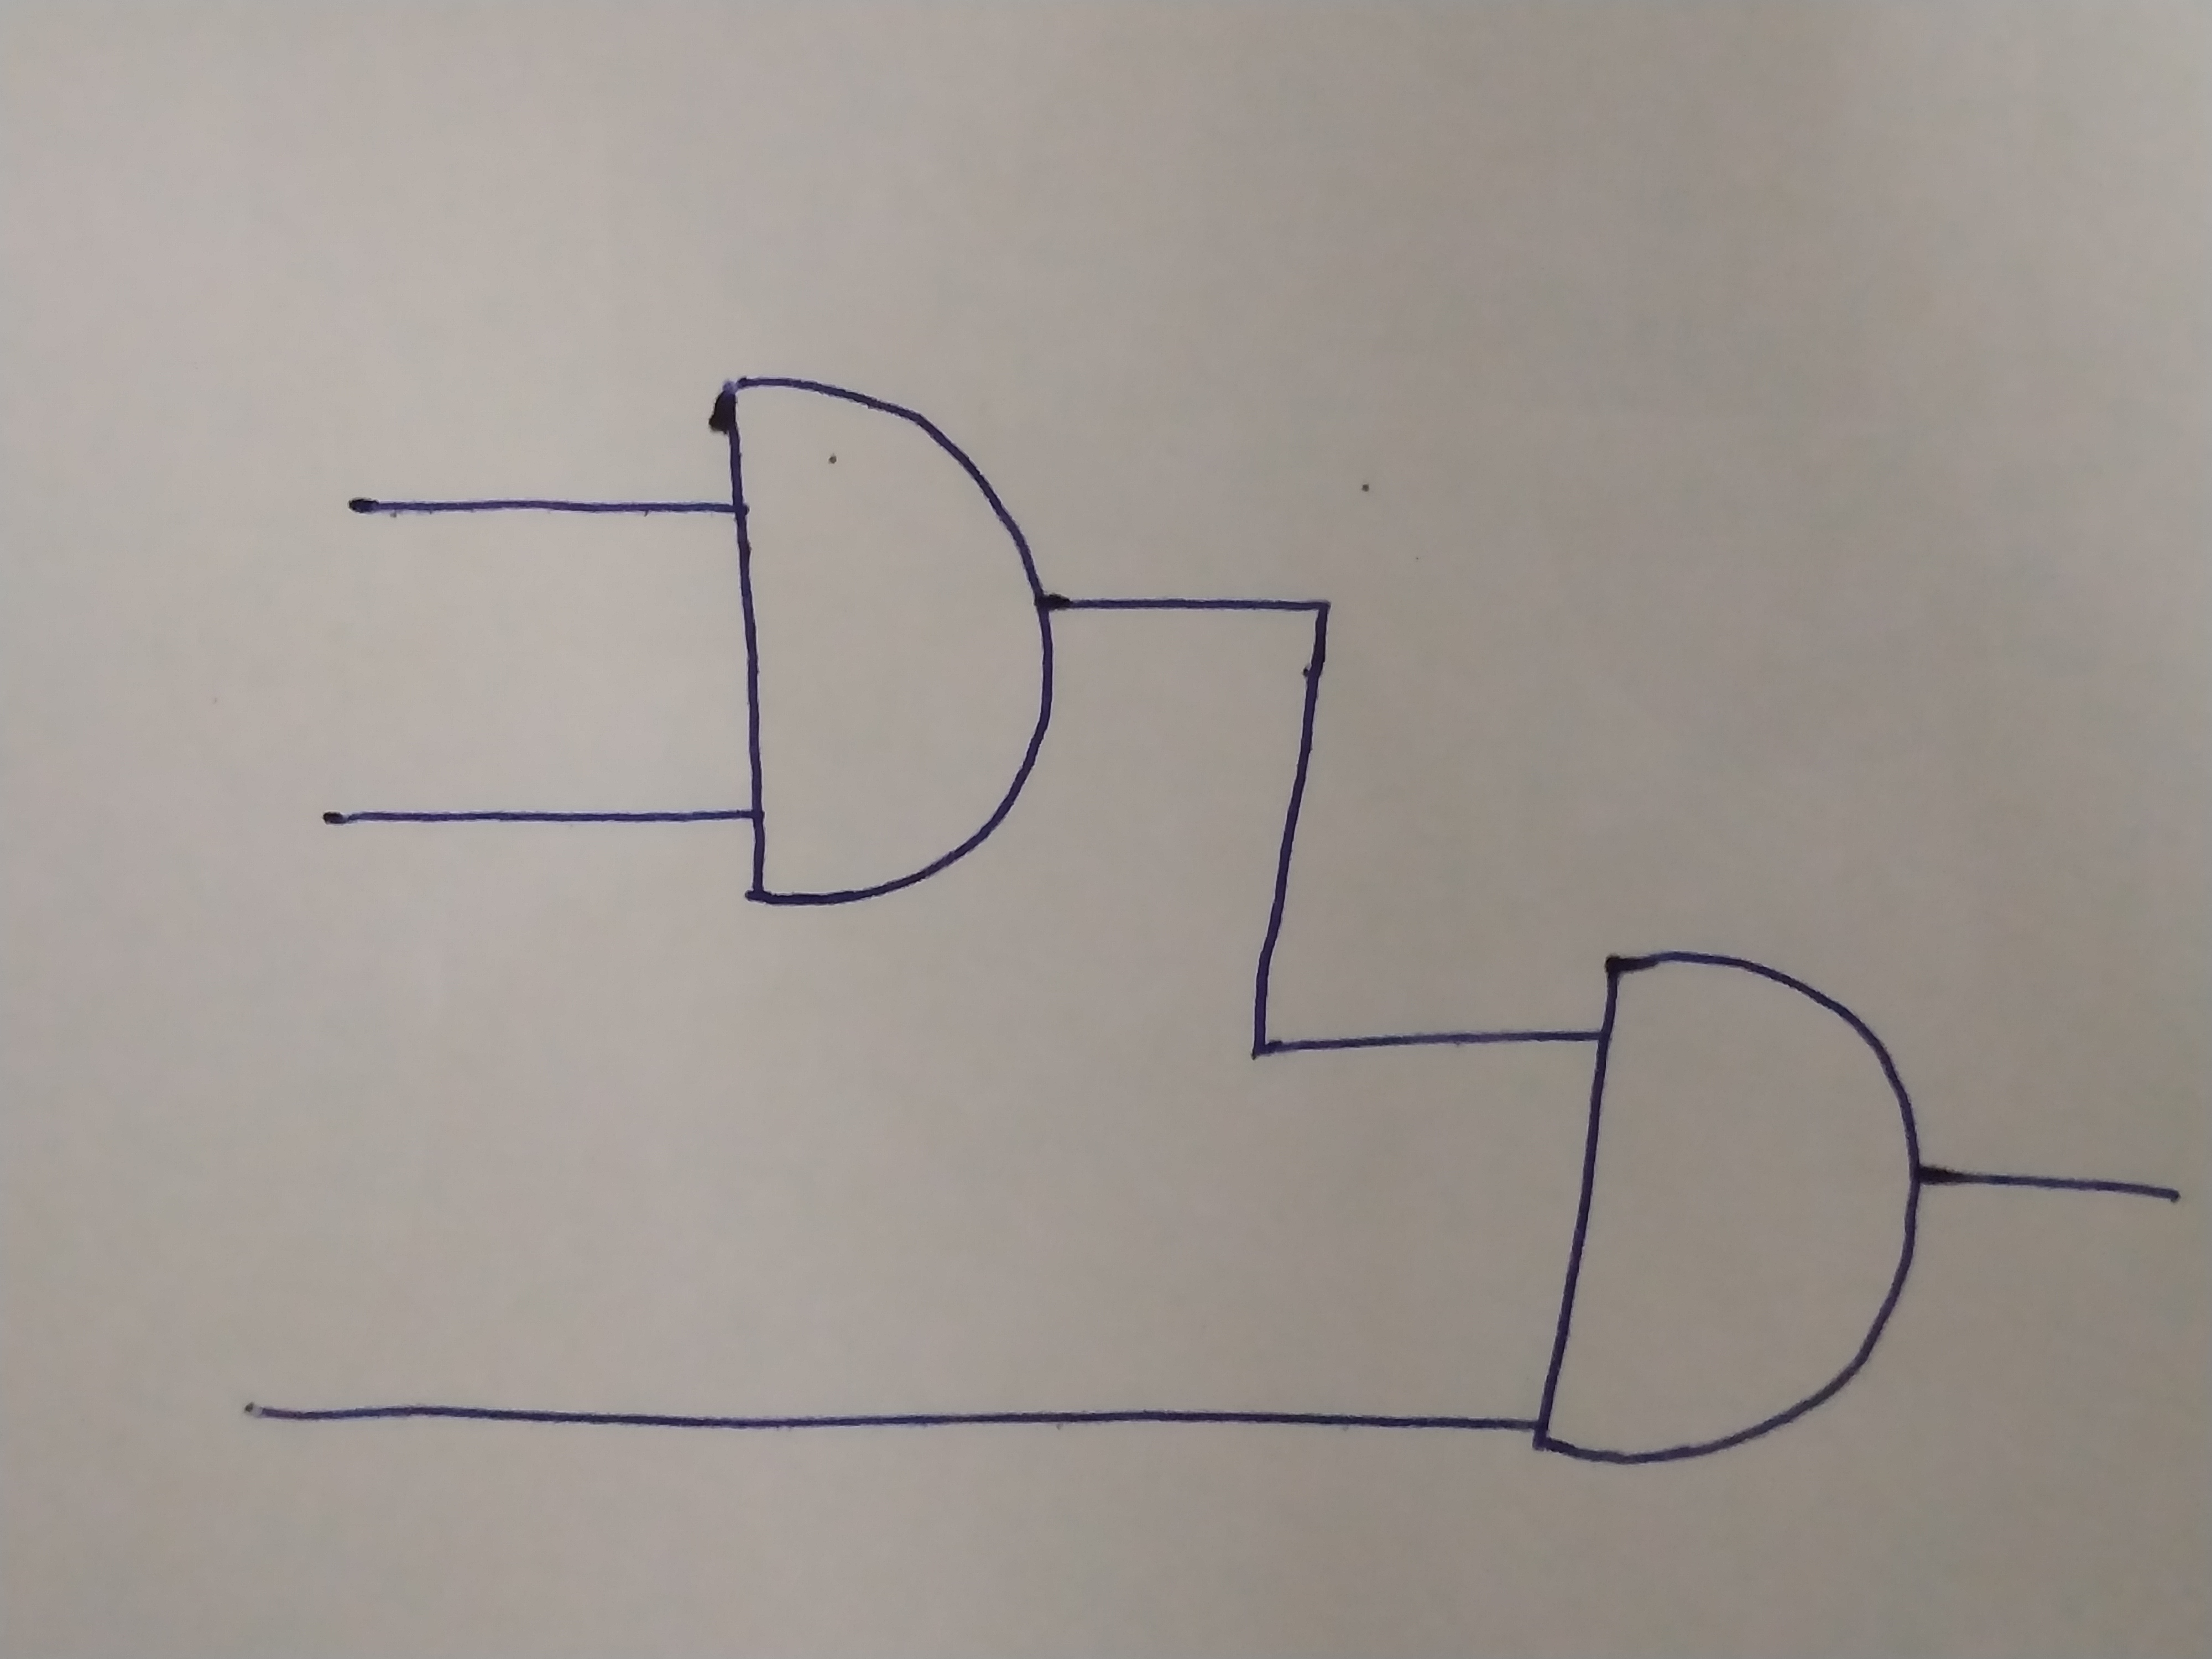and: (1538, 955, 1914, 1460), (712, 376, 1052, 911)
